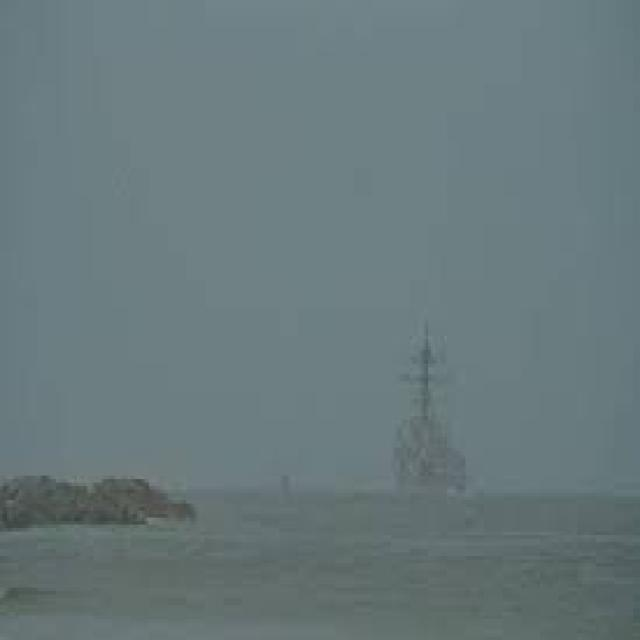fishing boat: (378, 306, 473, 502)
